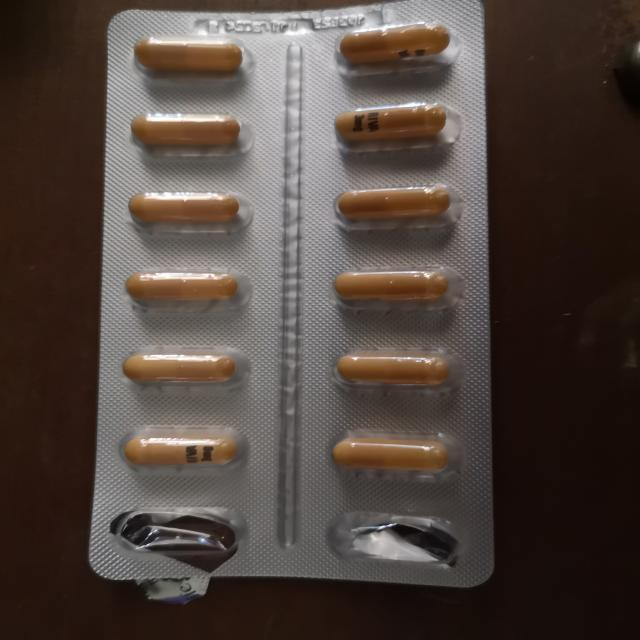Empty: (310, 503, 484, 576), (103, 498, 258, 576)
Pill: (316, 337, 469, 397), (316, 421, 458, 482), (116, 178, 254, 240), (322, 178, 468, 235), (318, 98, 464, 154), (314, 18, 473, 69), (114, 103, 252, 160), (110, 418, 250, 474), (120, 26, 254, 84), (110, 339, 250, 392), (325, 260, 460, 313), (111, 264, 252, 310)
